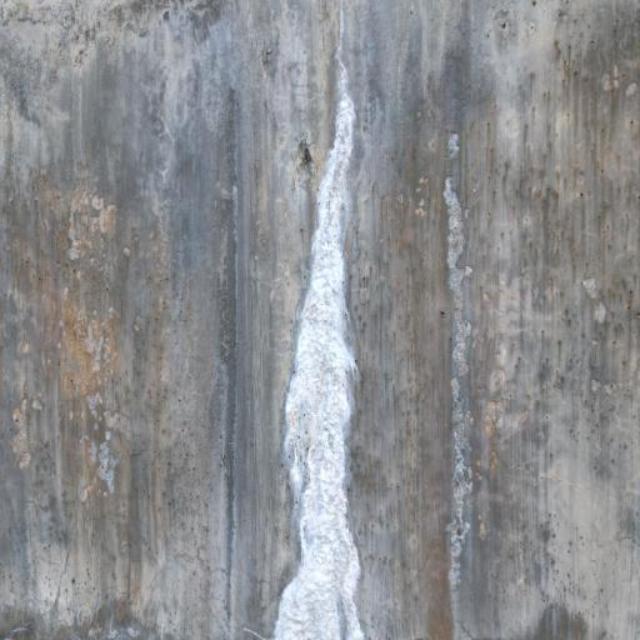D01: (278, 6, 365, 639)
